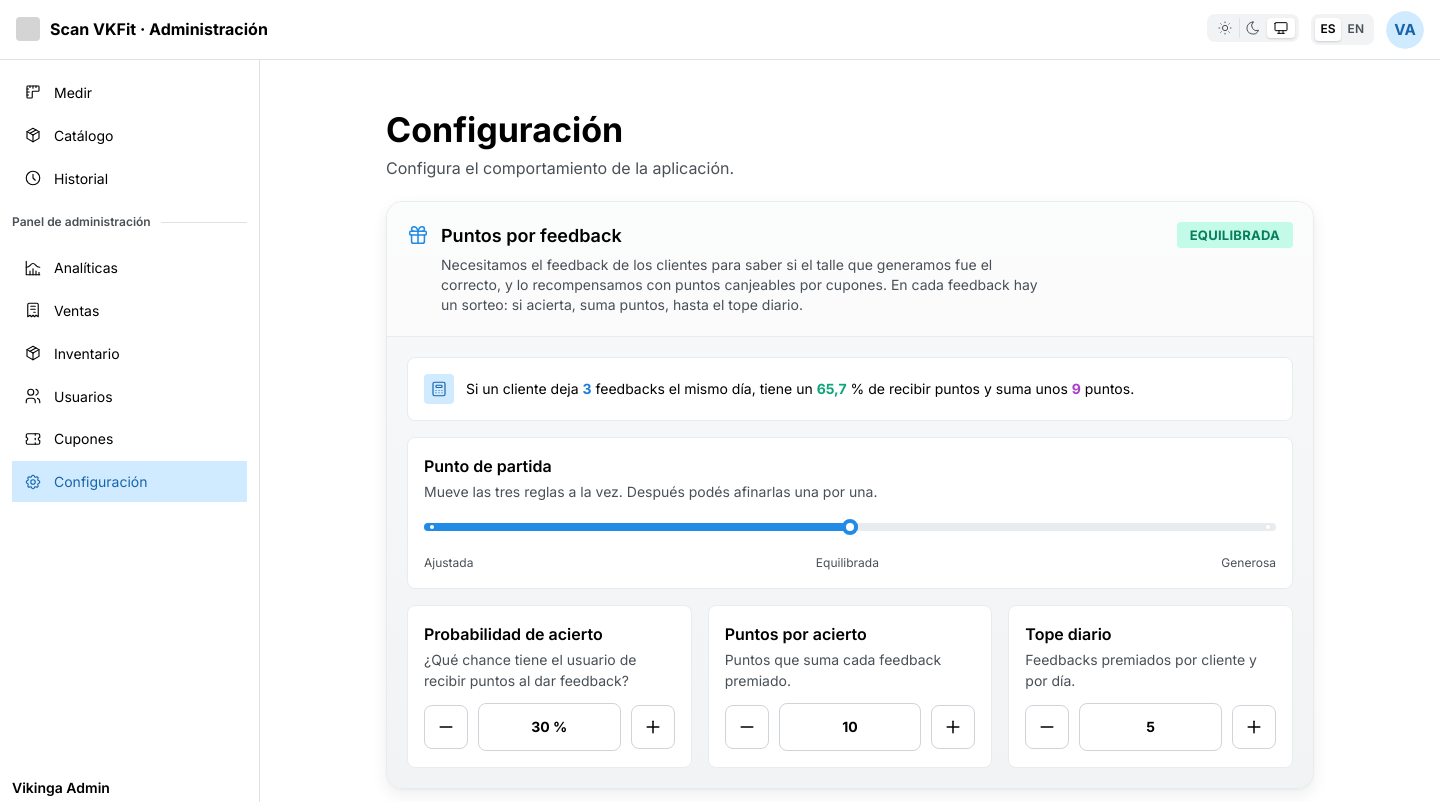
Scenario: configuración › edita la probabilidad de puntos y confirma el guardado
Replace the text in the field named "Probabilidad de acierto" with "100" at (549, 727), box [478, 703, 621, 751]
(page scrolled)
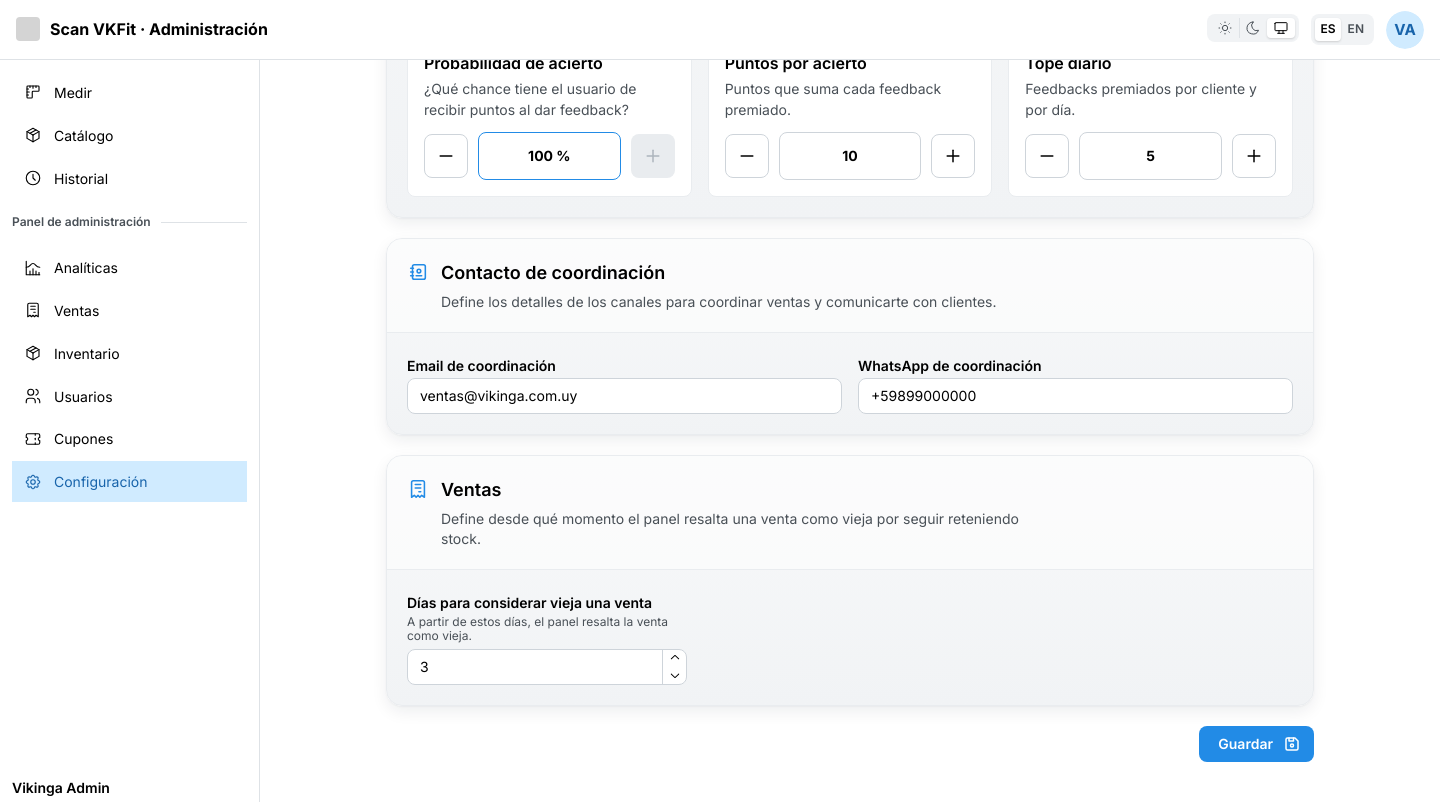
Click the button "Guardar" at (1257, 744), box [1199, 726, 1314, 762]
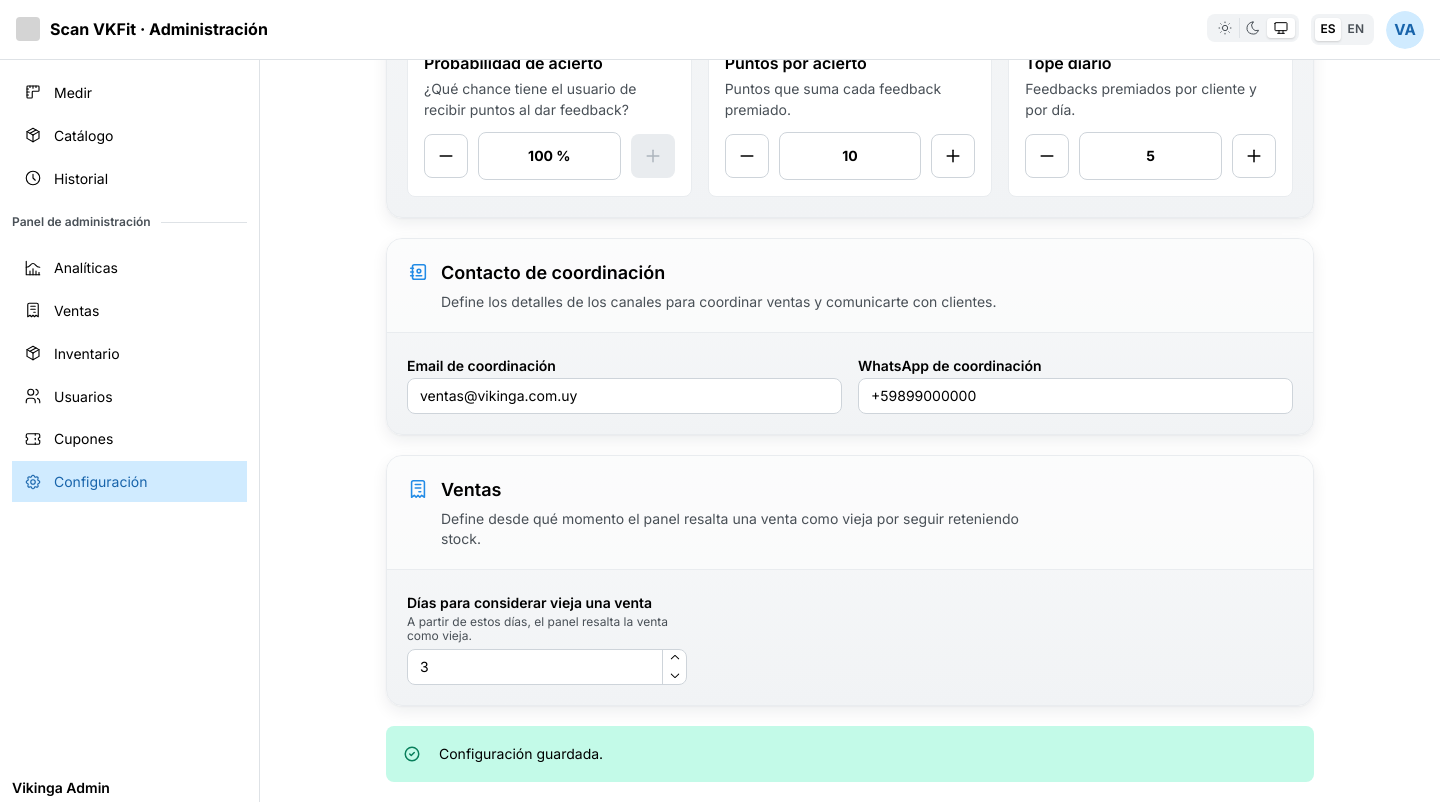
Expected: the text "Configuración guardada." is shown, [439, 745, 603, 762]
